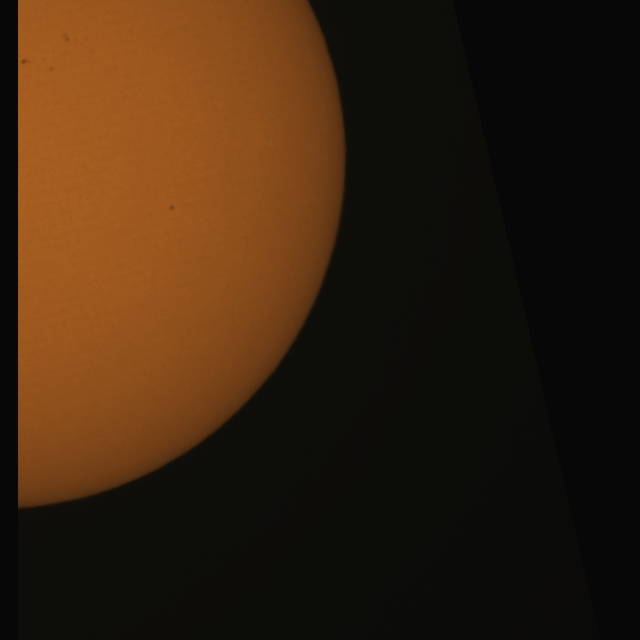sunspot: (20, 58, 32, 66), (62, 33, 71, 43), (168, 204, 176, 212)
